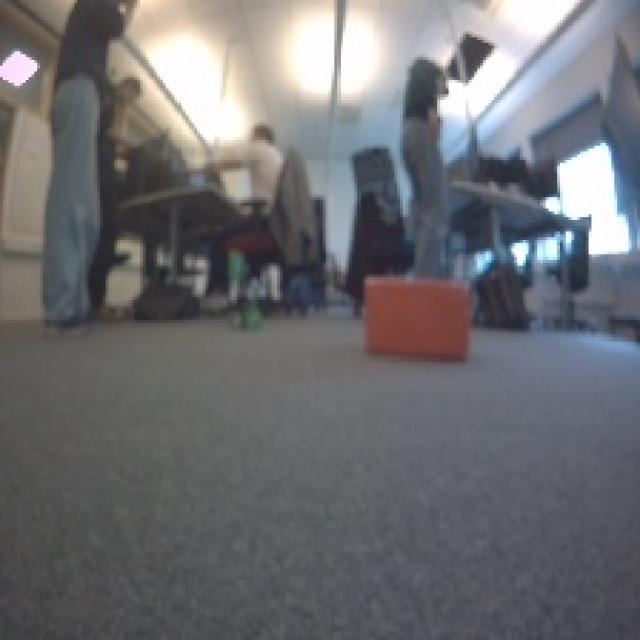robot: (224, 286, 265, 334)
target: (360, 269, 471, 360)
